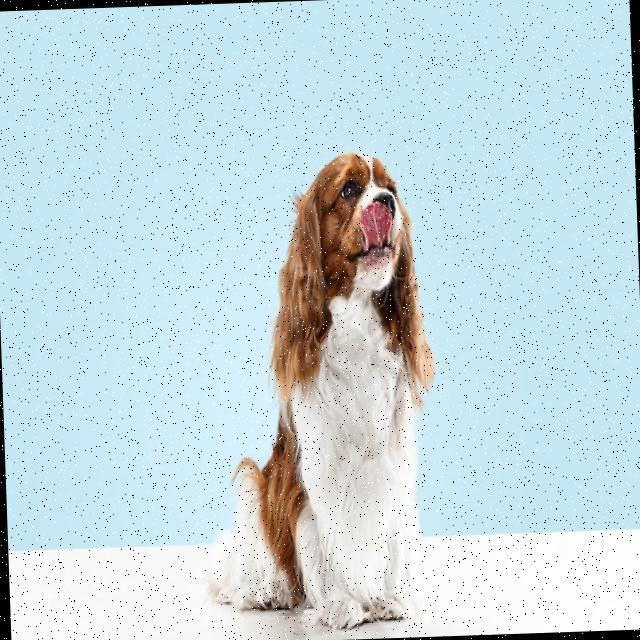Dog: (187, 150, 444, 632)
